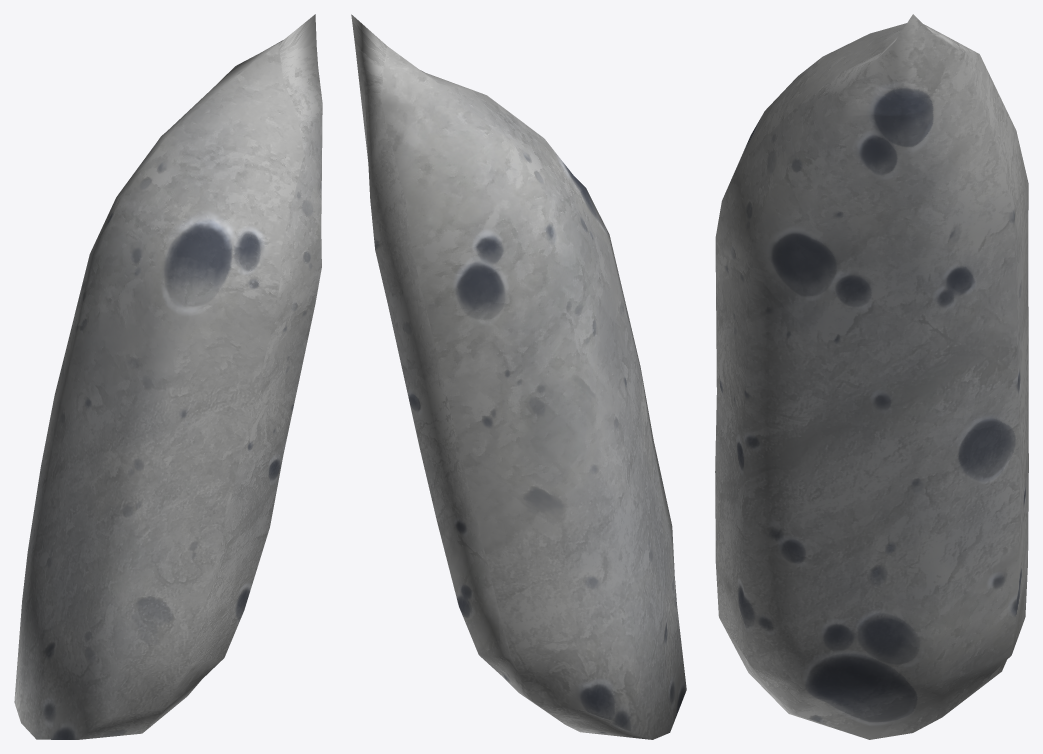
The model's file is rockG.5.fbx.
3 renders of one model, left to right at view 1: azimuth 30°, elevation 25°; view 2: azimuth 150°, elevation 25°; view 3: azimuth 270°, elevation 25°, orthographic. The views are drawn at different scales.
Parts seen in each view (by area): view 1: pCube1; view 2: pCube1; view 3: pCube1.
Boxes of the visible parts, x1=… form: pCube1: x1=14, y1=14, x2=322, y2=739; pCube1: x1=351, y1=14, x2=686, y2=739; pCube1: x1=715, y1=14, x2=1028, y2=739.
Size of the model in its own units: 216 by 455 by 149.
1 material, 1 textured.
